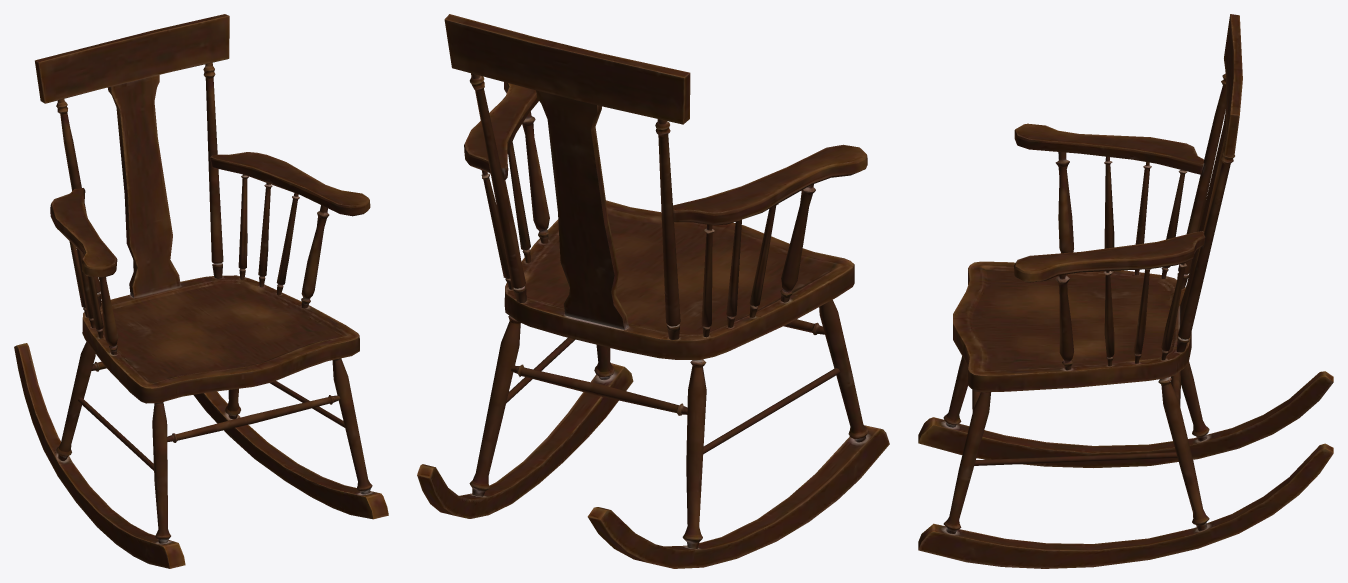
Rendered from rocking_chair.glb.
3 renders of one model, left to right at view 1: azimuth 30°, elevation 25°; view 2: azimuth 150°, elevation 25°; view 3: azimuth 270°, elevation 25°, orthographic. The views are drawn at different scales.
Parts seen in each view (by area): view 1: Rockingchair_01; view 2: Rockingchair_01; view 3: Rockingchair_01.
Boxes of the visible parts, x1,y1,x2,y2 form: Rockingchair_01: [14, 14, 388, 568]; Rockingchair_01: [417, 14, 889, 568]; Rockingchair_01: [918, 14, 1333, 568].
Size of the model in its own units: 0.7081 by 0.9949 by 0.8335.
1 material, 1 textured.
